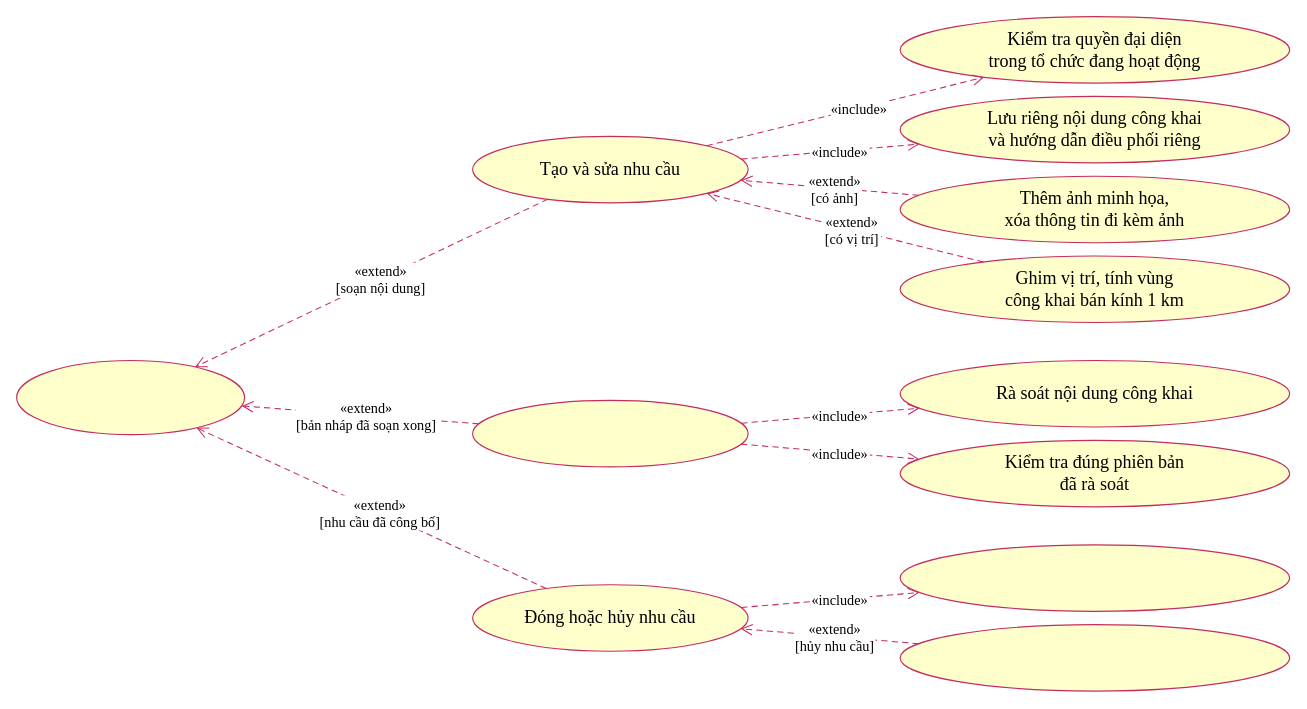
Some shapes in this 1307 by 709 pixel diagram are drawn without their labels. Here are the shapes that lost their labels. From the top down, the centre of each, then its label:
At (130,397): "Quản lý nhu cầu".
At (610,433): "Công bố nhu cầu".
At (1094,577): "Kiểm tra điều kiện đóng, hủy".
At (1094,657): "Hủy các ca chưa bắt đầu".
